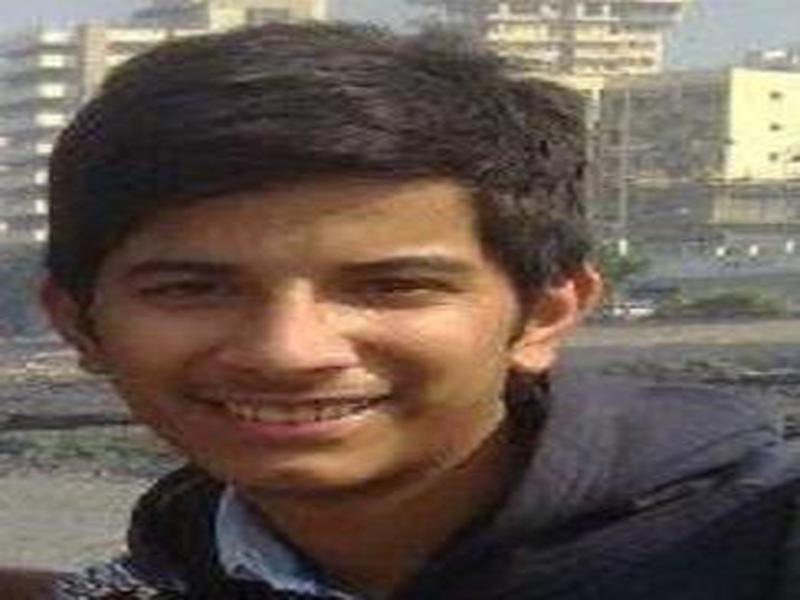without_mask: (87, 165, 502, 497)
